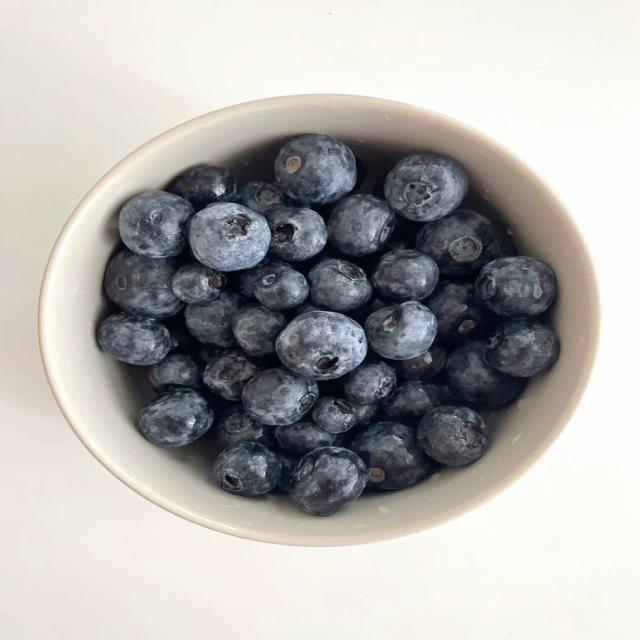blueberry: (416, 210, 515, 275), (277, 311, 366, 379), (274, 134, 356, 204), (188, 203, 270, 271), (385, 154, 467, 221), (446, 341, 525, 409), (105, 250, 184, 318), (289, 447, 367, 515), (352, 422, 429, 490), (119, 191, 193, 258), (475, 256, 556, 315), (242, 368, 318, 425), (139, 389, 213, 447), (417, 406, 487, 466), (487, 319, 559, 377), (366, 301, 437, 359), (328, 195, 395, 256), (427, 284, 494, 344), (97, 314, 169, 365), (214, 442, 281, 496), (372, 250, 439, 301), (308, 259, 372, 311), (185, 291, 243, 347), (268, 207, 327, 261), (167, 165, 237, 210), (203, 350, 259, 400), (233, 304, 286, 356), (254, 263, 308, 310), (384, 381, 449, 420), (218, 404, 275, 447), (172, 262, 226, 303), (275, 422, 336, 457), (344, 363, 396, 404), (149, 354, 201, 392), (394, 345, 446, 380), (312, 397, 356, 433), (240, 181, 285, 216), (234, 258, 273, 298), (167, 316, 197, 353), (348, 298, 386, 326), (276, 451, 299, 492), (350, 403, 379, 425), (197, 345, 223, 367), (291, 302, 321, 317), (372, 176, 386, 199)
